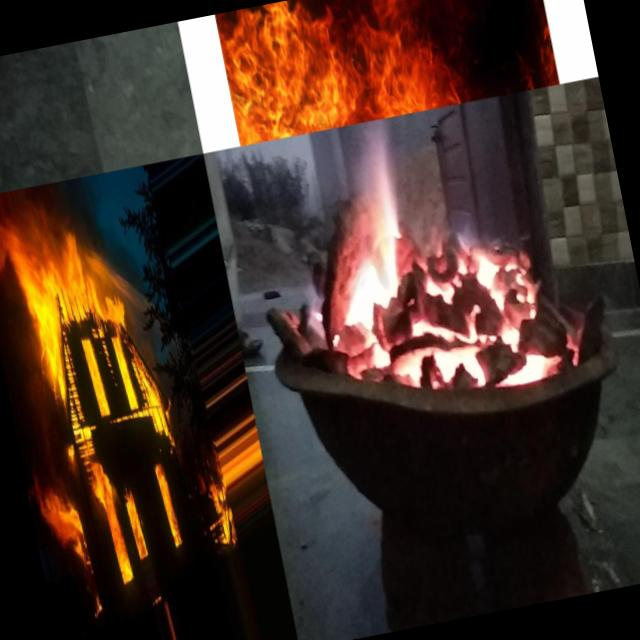fire: (215, 0, 555, 146), (310, 128, 501, 362), (12, 225, 136, 398), (89, 453, 140, 603), (32, 472, 92, 576), (132, 352, 178, 449), (148, 443, 185, 562), (120, 480, 152, 574)
